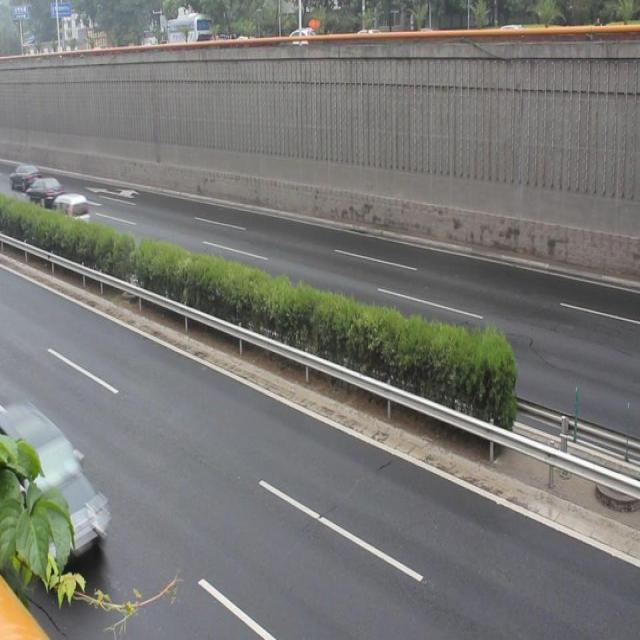car: (1, 401, 113, 576)
truck: (51, 186, 92, 232)
